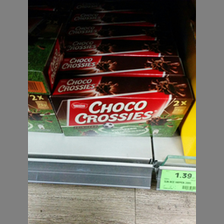chocolate: (52, 76, 195, 137)
